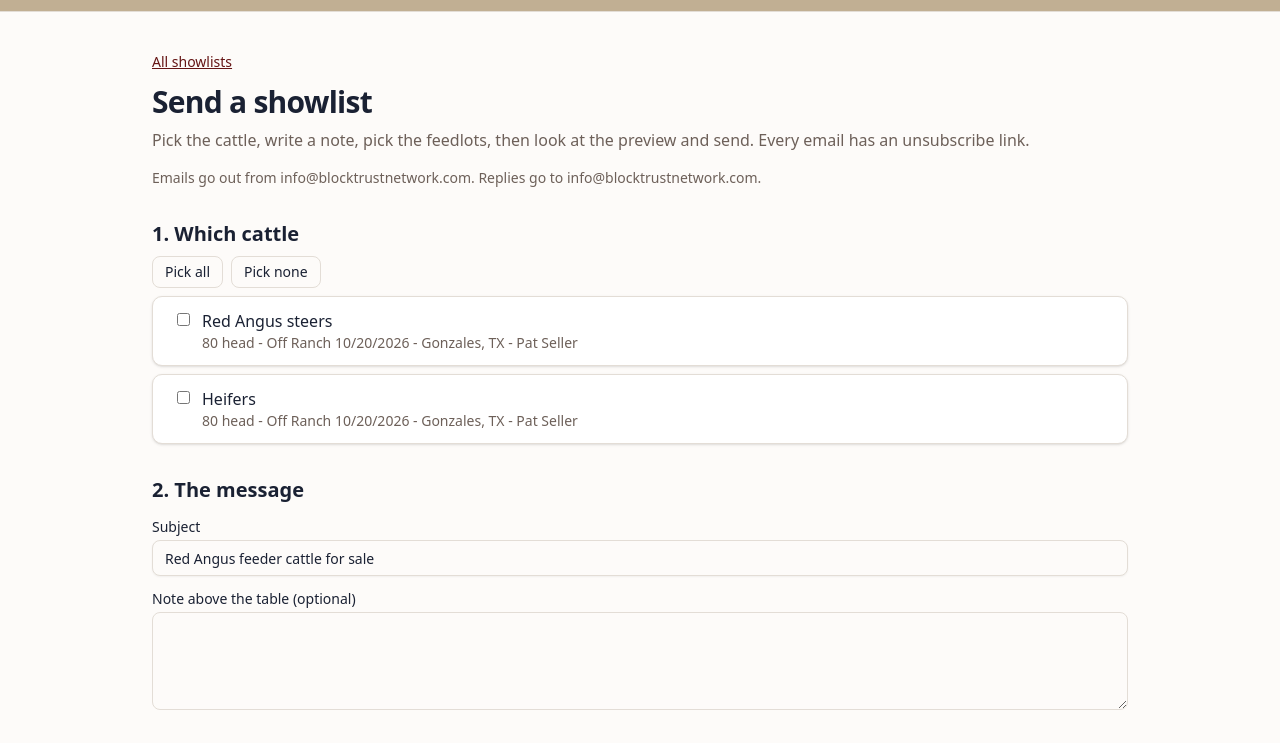
Test: send a showlist › shows a refusal from the server in plain words and sends nothing more
This screenshot has width=1280, height=743.
Click the checkbox named "Include Red Angus steers" at (184,320), box [177, 313, 190, 326]
(page scrolled)
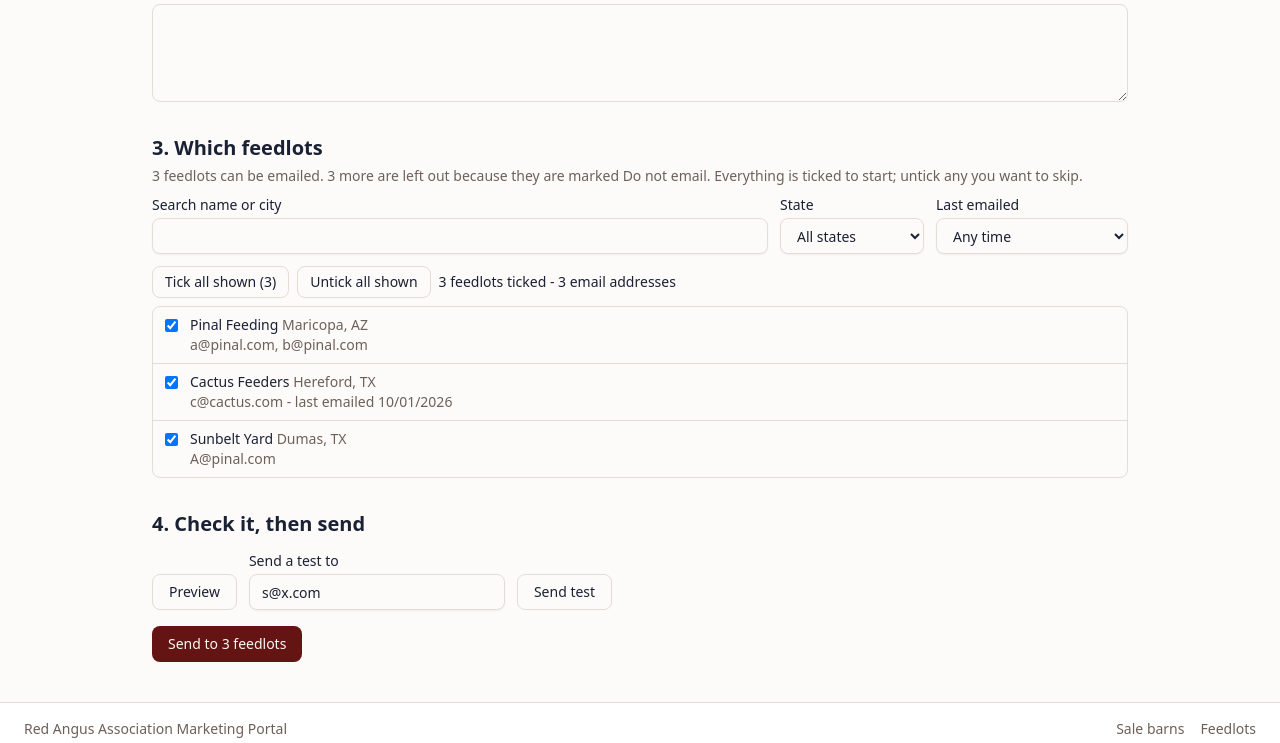
Click the button "Send to 3 feedlots" at (227,644), box [152, 626, 302, 662]
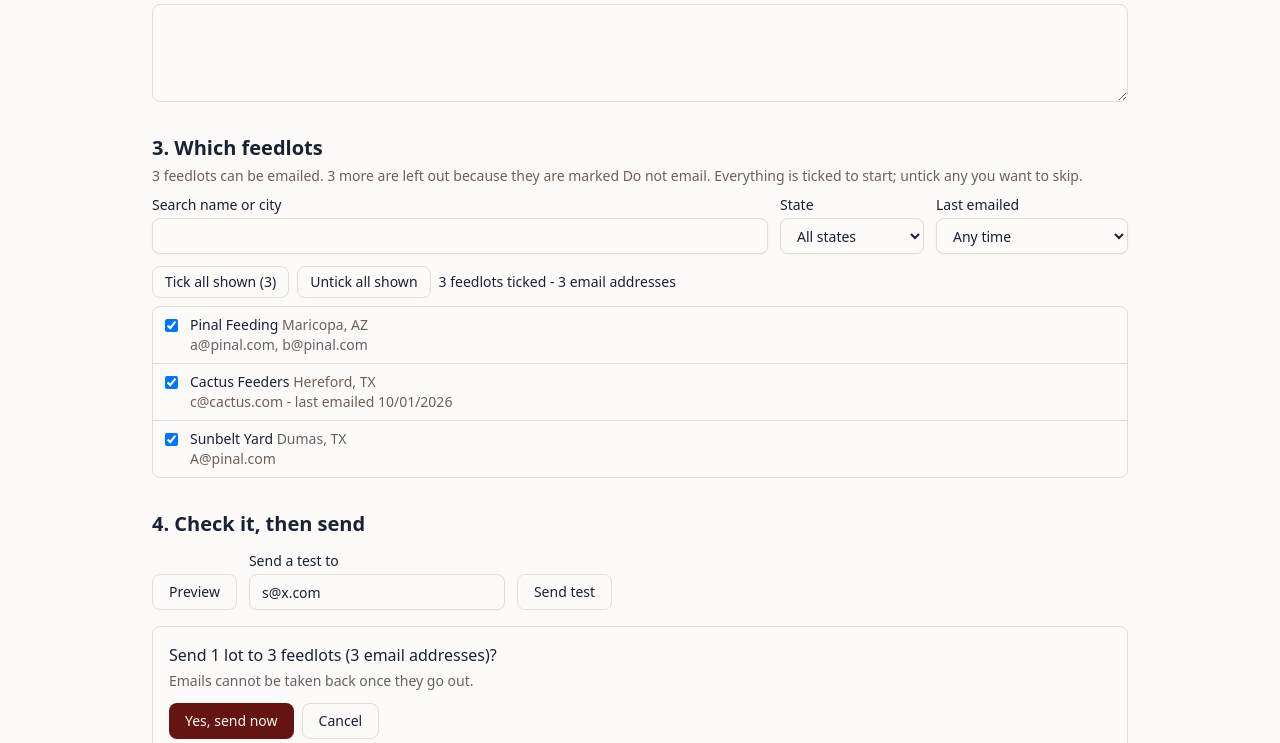
Click the button "Yes, send now" at (231,721), box [169, 703, 294, 739]
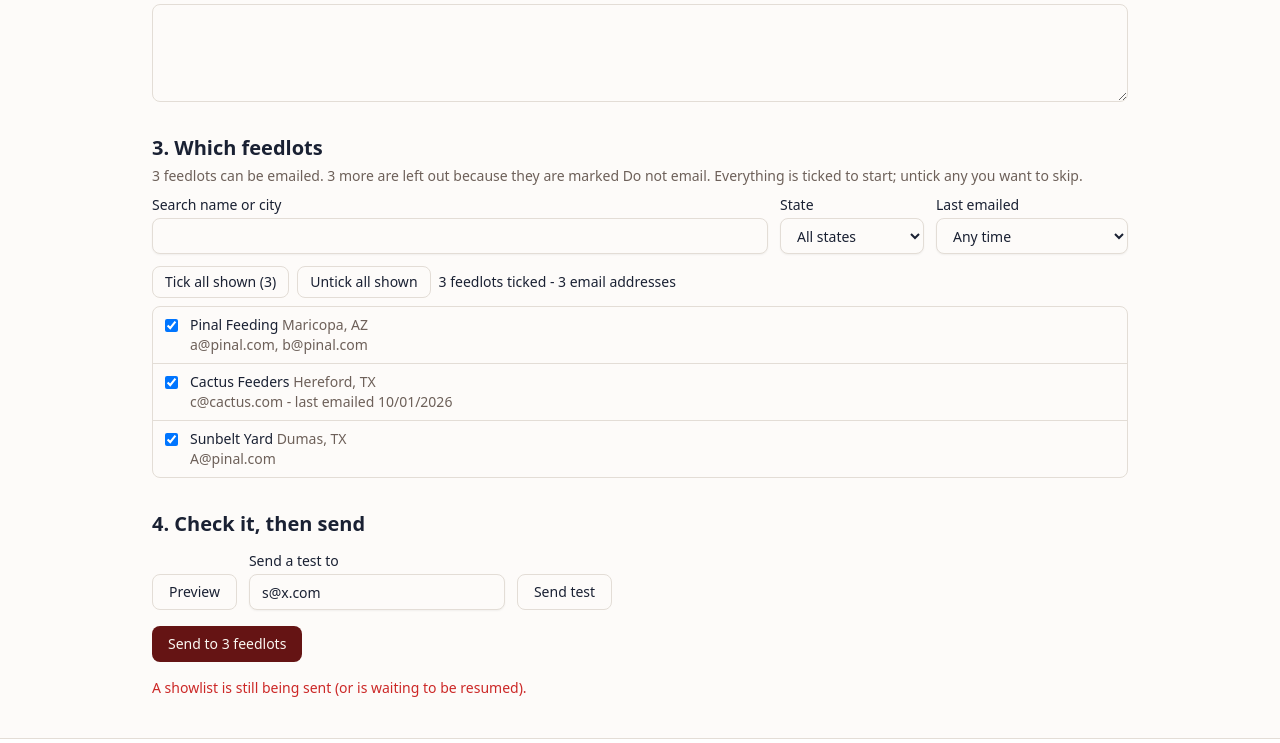
Now the message shows "still being sent", box [152, 678, 527, 697]
